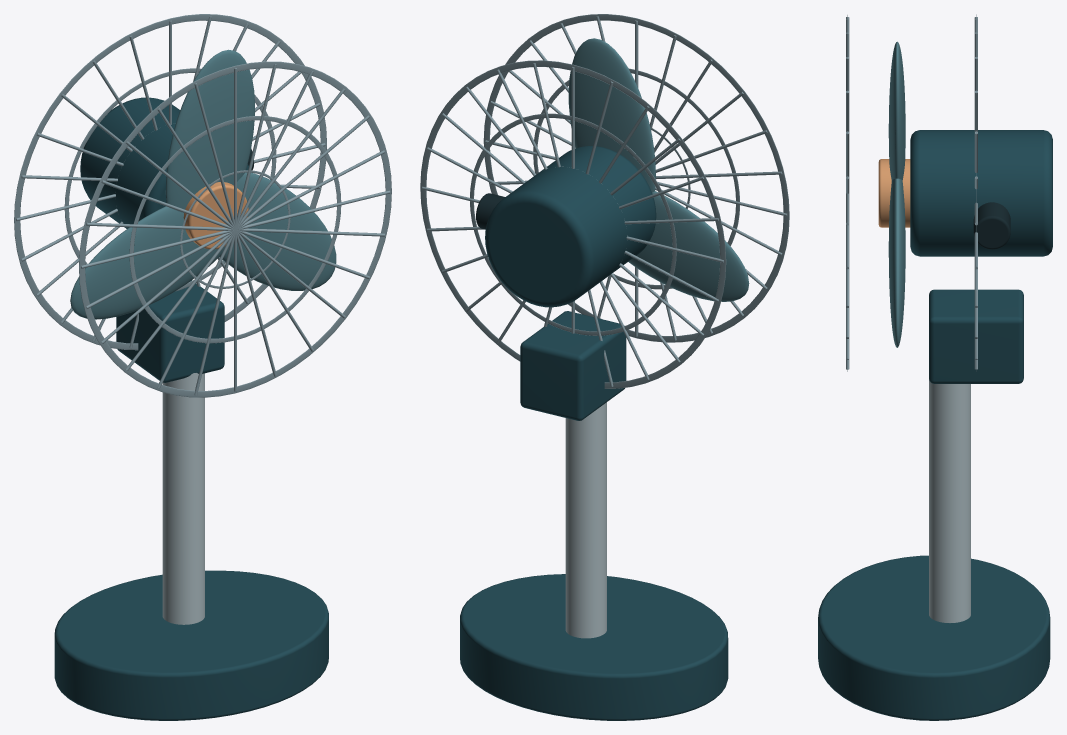
The picture shows the model from 3 angles, left to right: view 1: azimuth 30°, elevation 25°; view 2: azimuth 150°, elevation 25°; view 3: azimuth 270°, elevation 25°; orthographic projection. The views are drawn at different scales.
Parts seen in each view (by area): view 1: base, rotor, front_guard, stand, rear_guard, motor; view 2: base, motor, stand, rear_guard, rotor, front_guard; view 3: base, stand, motor, rotor, dial, front_guard, rear_guard.
Boxes of the visible parts, box(x1,y1,x2,y2) form: base: box(54, 570, 328, 720); rotor: box(70, 49, 336, 319); front_guard: box(79, 61, 391, 397); stand: box(116, 280, 224, 624); rear_guard: box(14, 14, 326, 350); motor: box(80, 97, 248, 228); base: box(460, 574, 728, 720); motor: box(485, 146, 656, 307); stand: box(520, 311, 626, 638); rear_guard: box(420, 60, 726, 388); rotor: box(568, 38, 749, 301); front_guard: box(483, 14, 789, 342); base: box(818, 555, 1050, 720); stand: box(929, 289, 1023, 622); motor: box(910, 130, 1052, 256); rotor: box(878, 41, 910, 347); dial: box(973, 202, 1010, 249); front_guard: box(846, 15, 849, 371); rear_guard: box(974, 14, 977, 371).
Size of the model in its own units: 0.34 by 0.66 by 0.2225.
